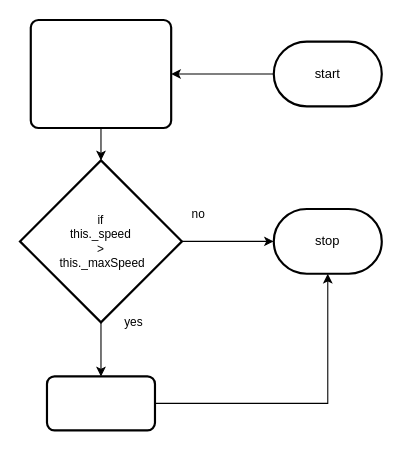
This 401x449 diagram has some shape labels left out. The shapes that lost their labels are listed below. From the top down, each one's centre as x and y in pixels, then its label:
At (x=100, y=73): "this._speed = (accelerationPower * accelerationTime) + this._speed".
At (x=100, y=403): "this._speed = this._maxSpeed".
